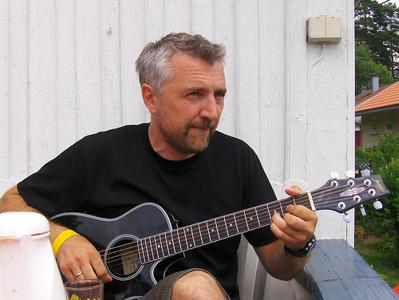person: (2, 34, 320, 300)
